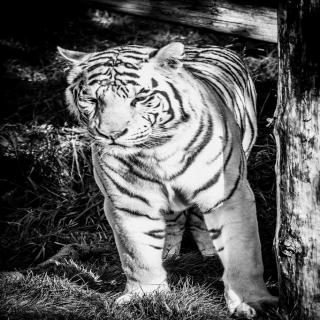Tiger: (57, 43, 282, 317)
